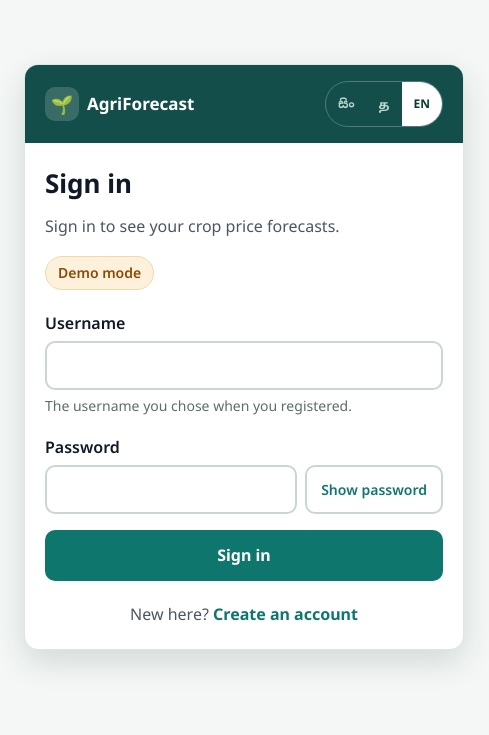
Test: LoginPage › surfaces a localized wrong-credentials message on 401
Type "farmer1" into the field labelled "Username" at (244, 366), box [45,341,443,390]
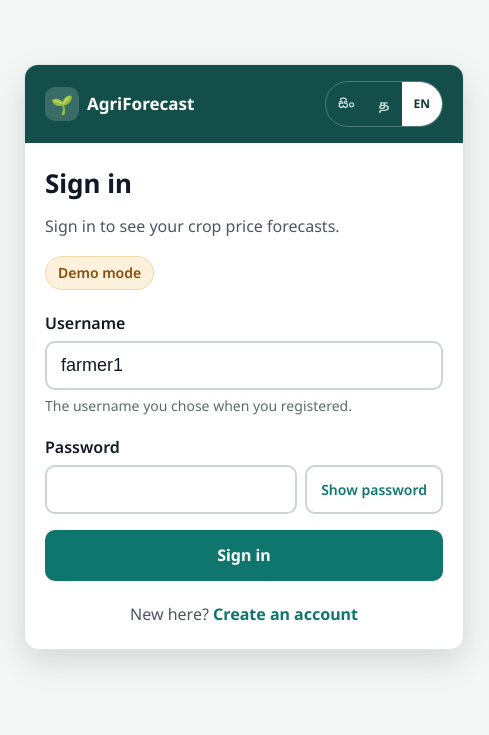
Type "wrongpass" into the password field labelled "Password" at (171, 490), box [45,465,297,514]
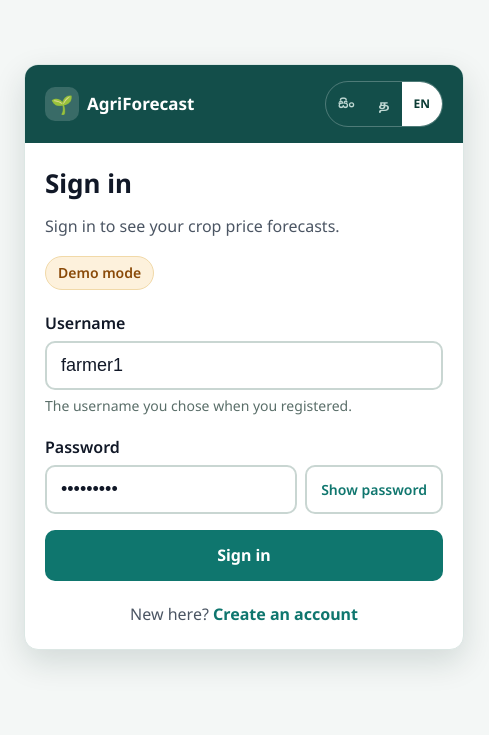
Click the button "Sign in" at (244, 556), box [45,530,443,582]
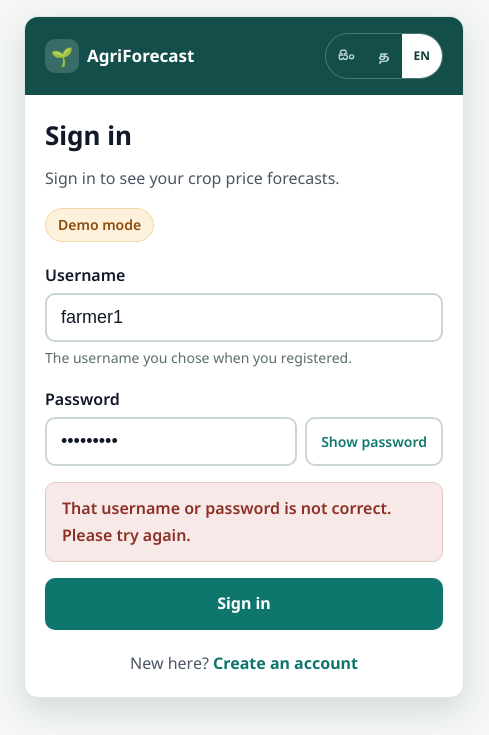
Now the text "That username or password is not correct. Please try again." is shown, box [45,482,443,562]
